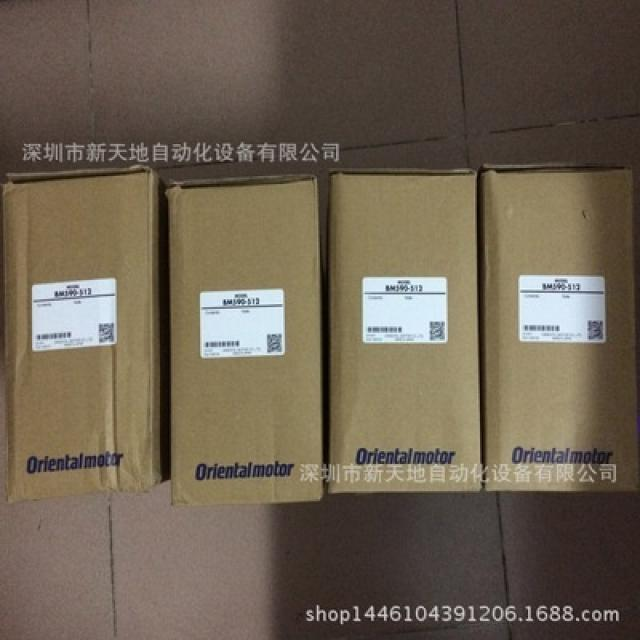box: (0, 165, 171, 506), (480, 163, 640, 491), (168, 173, 325, 507), (326, 168, 482, 494)
